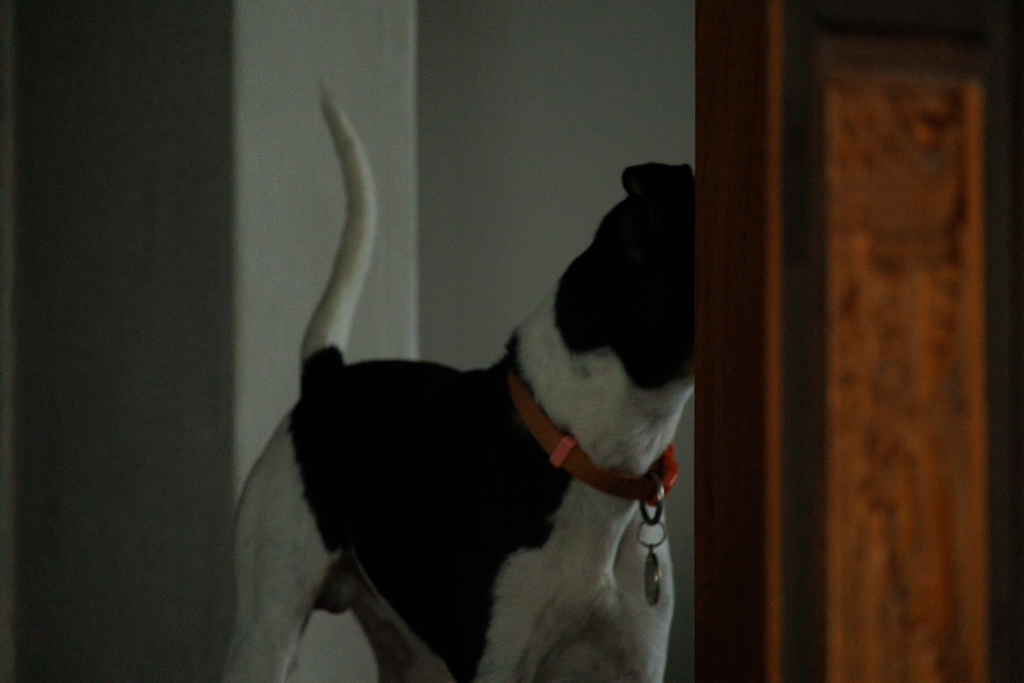Dog: (213, 68, 710, 683)
